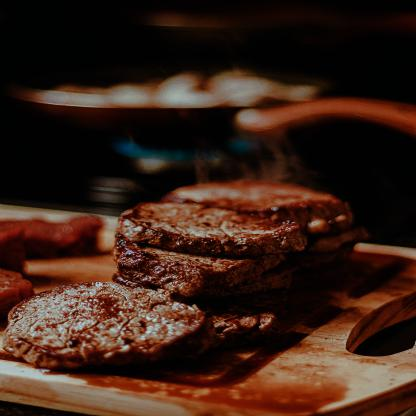Carne: (1, 281, 206, 364), (117, 197, 304, 249), (100, 246, 302, 289), (302, 193, 348, 240)
